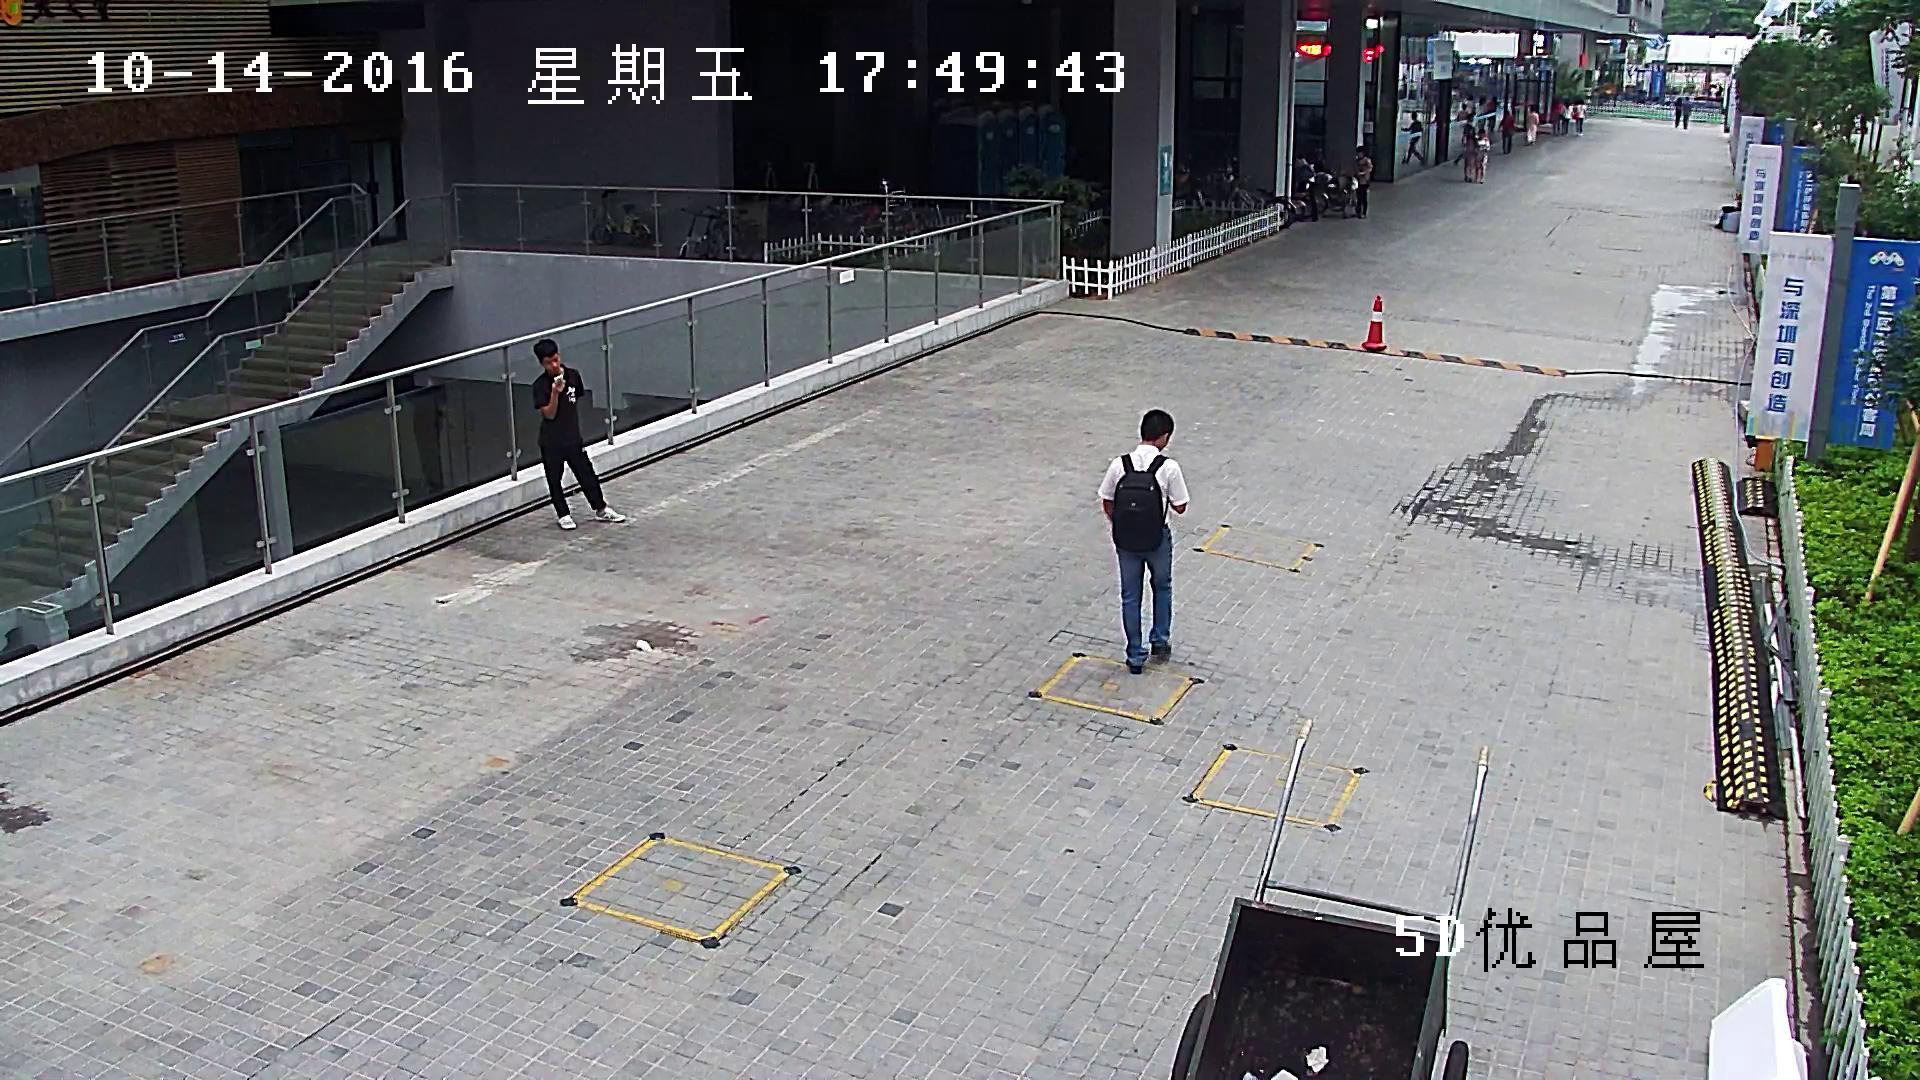person: (1096, 408, 1189, 675), (531, 338, 626, 530), (1351, 144, 1373, 219), (1453, 122, 1476, 182), (1400, 111, 1424, 164), (1474, 128, 1491, 184), (1497, 109, 1517, 155), (1524, 104, 1540, 146), (1571, 98, 1586, 136), (1548, 98, 1564, 136), (1463, 93, 1476, 125), (1486, 95, 1497, 133), (1681, 95, 1692, 129), (1561, 101, 1571, 137), (1672, 96, 1682, 127)
